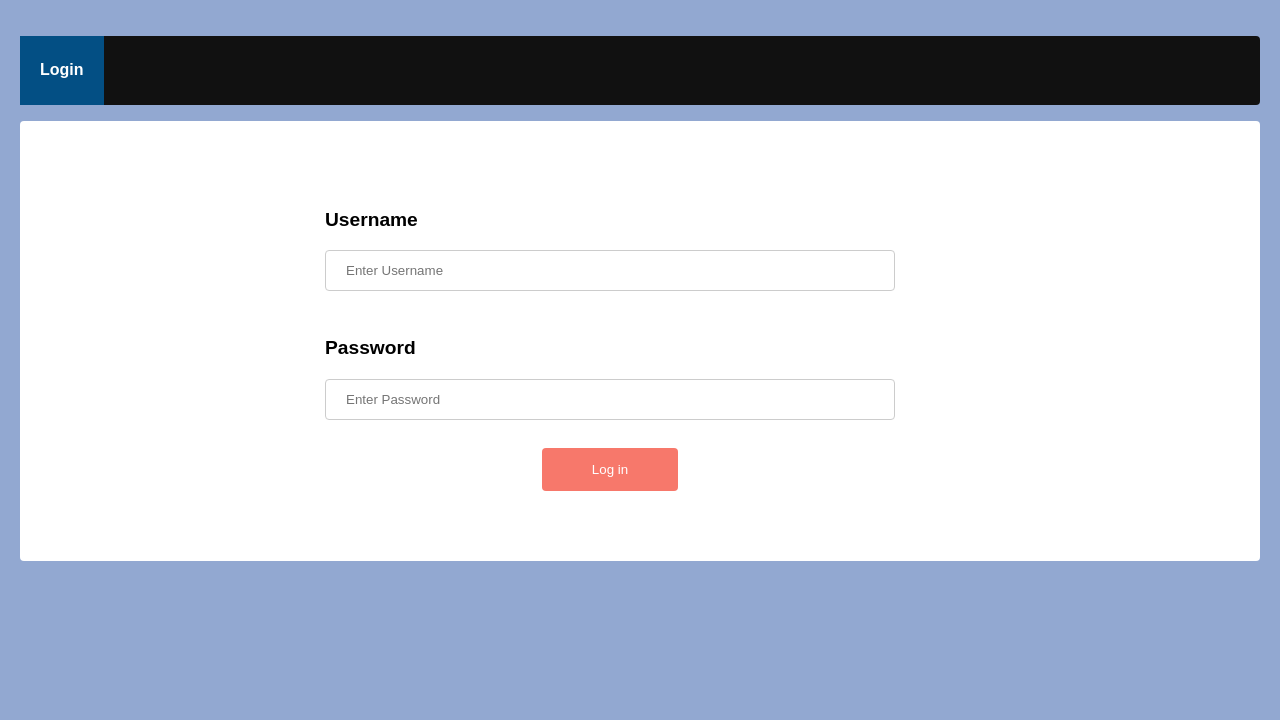
Scenario: Kepler Colony Tests › can go to Manage page
This screenshot has width=1280, height=720.
In the field with test id "username": (610, 271) left=325, top=250, right=895, bottom=291, type "username"
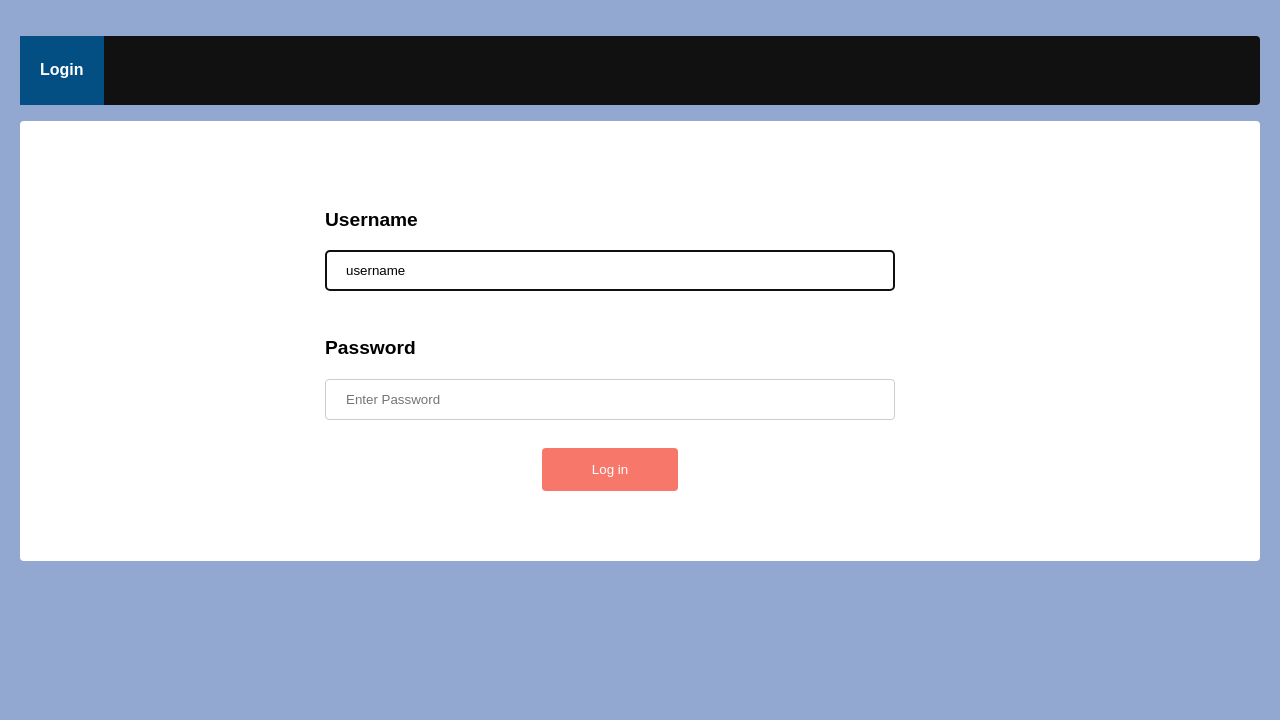
In the password field with test id "password": (610, 400) left=325, top=379, right=895, bottom=420, type "password"
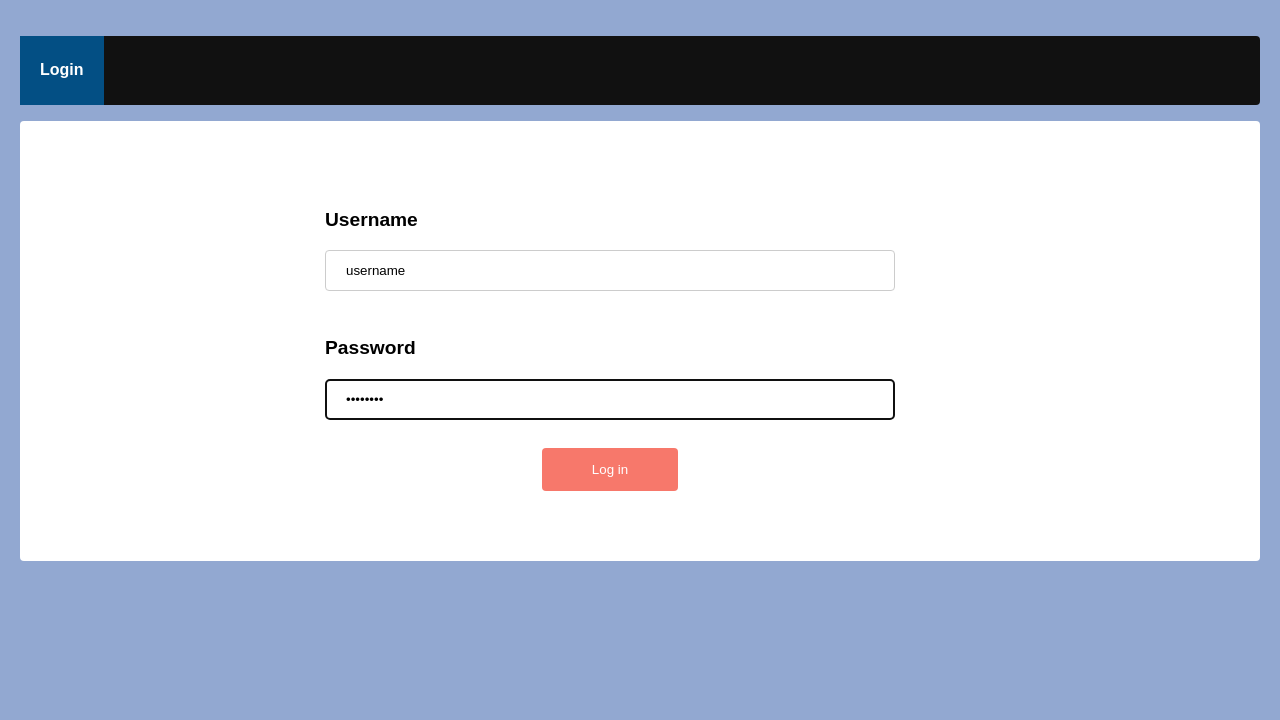
Click the button with class "login-button": (610, 470) left=542, top=448, right=678, bottom=491
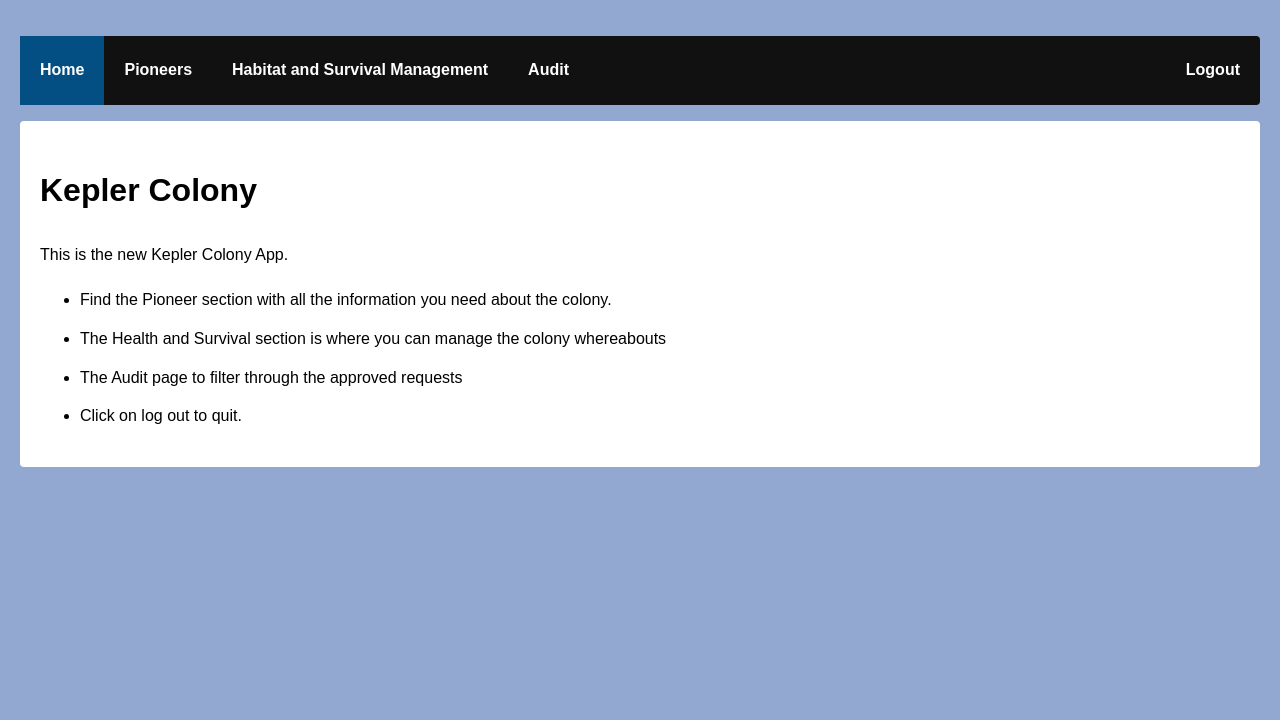
Click the link with aria-label "Manage": (360, 70) left=232, top=61, right=488, bottom=78
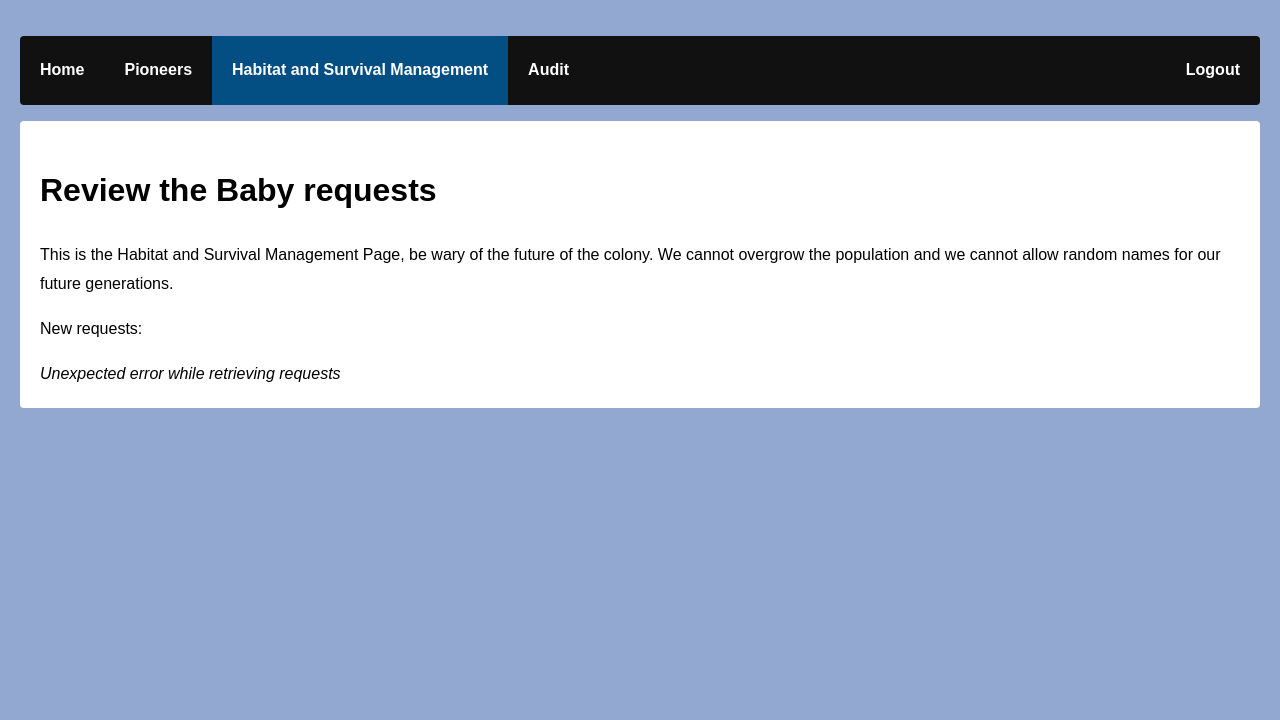
Now the text "New requests" is shown, box left=40, top=320, right=142, bottom=337
